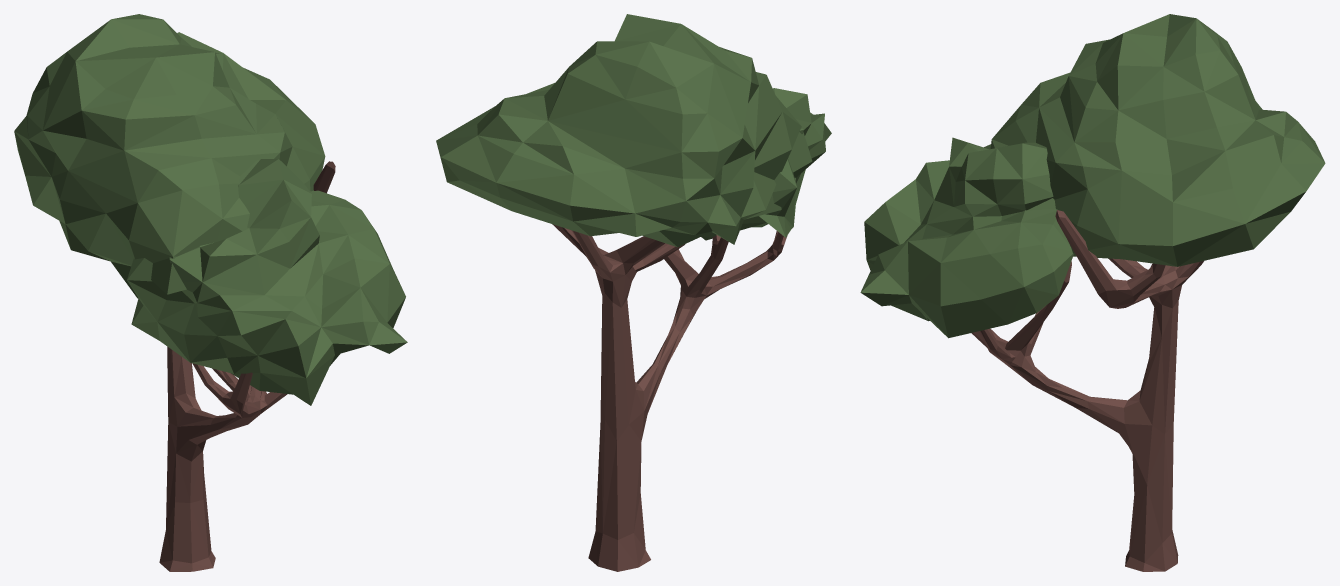
File: CommonTree_2.lod1.glb
3 renders of one model, left to right at view 1: azimuth 30°, elevation 25°; view 2: azimuth 150°, elevation 25°; view 3: azimuth 270°, elevation 25°, orthographic. The views are drawn at different scales.
Parts seen in each view (by area): view 1: CommonTree_2; view 2: CommonTree_2; view 3: CommonTree_2.
Part boxes in pixels (x1,y1,x2,y2): CommonTree_2: (14,14,407,571); CommonTree_2: (436,14,831,571); CommonTree_2: (860,14,1325,571).
Size of the model in its own units: 1.66 by 3.12 by 2.54.
